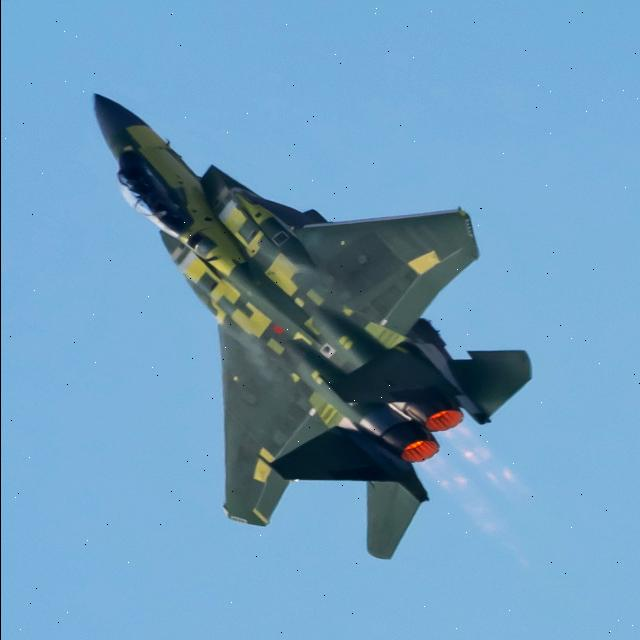F15: (78, 87, 540, 573)
